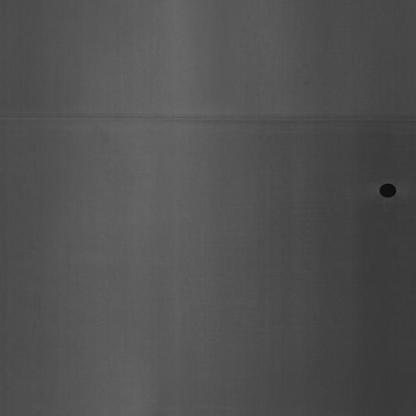punching_hole: (376, 178, 399, 202)
welding_line: (5, 101, 412, 134)
